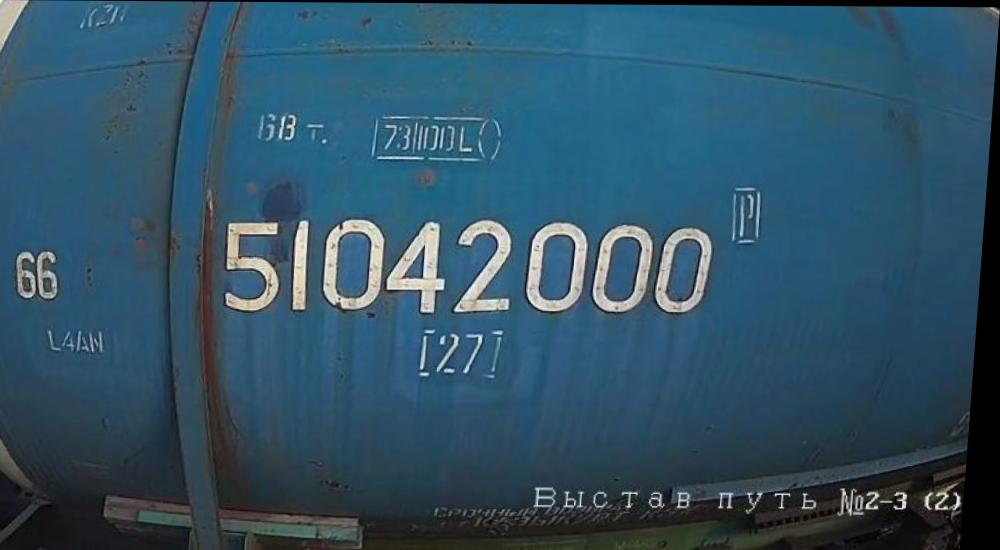Wagon-number: (216, 208, 728, 323)
